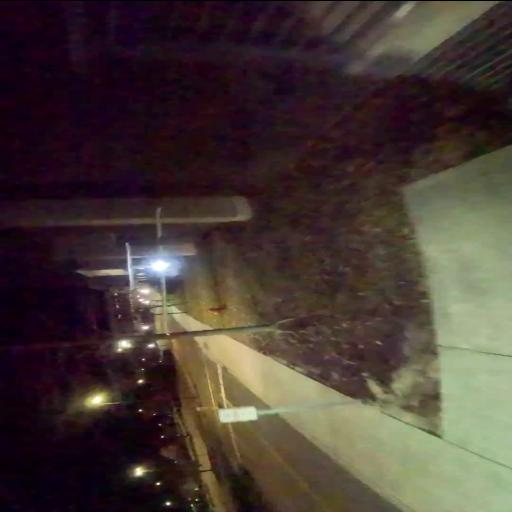uav: (118, 206, 182, 342)
